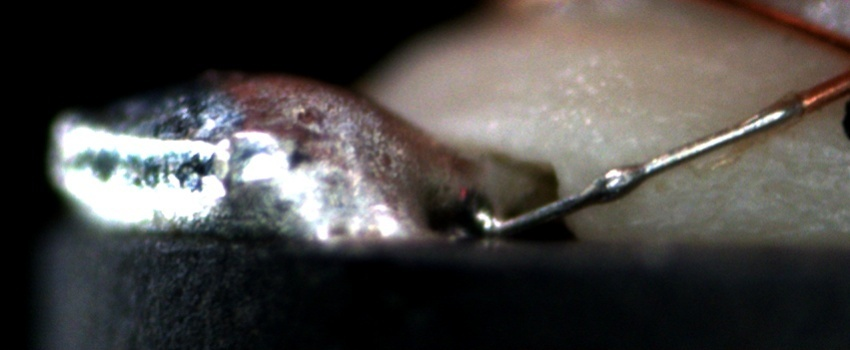TB: (582, 157, 649, 213)
TS: (487, 95, 805, 233)
TTCW: (477, 72, 846, 238)
